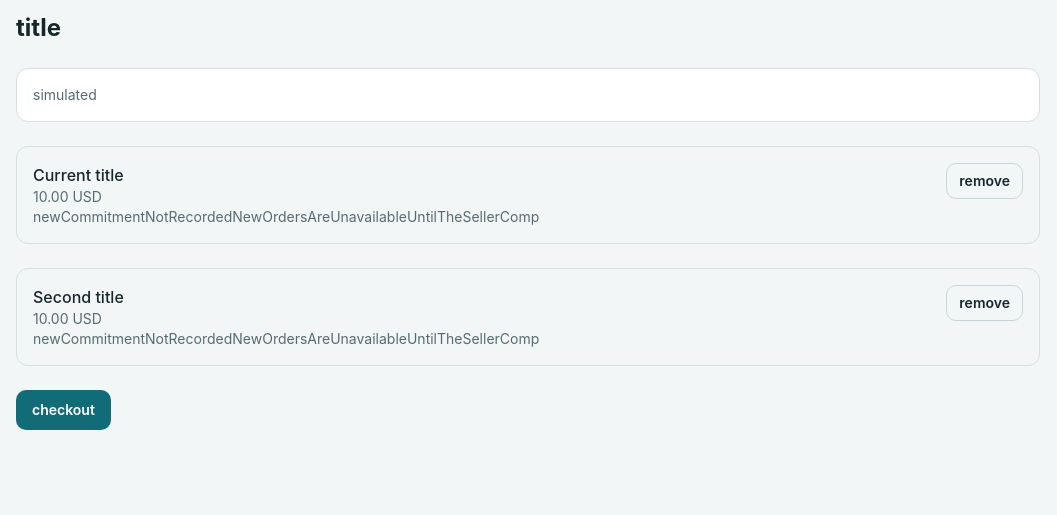
Scenario: rechecks listings before checkout and does not place an order after a later price change
Click the button "checkout".
click(63, 410)  # box x1=16 y1=390 x2=111 y2=430
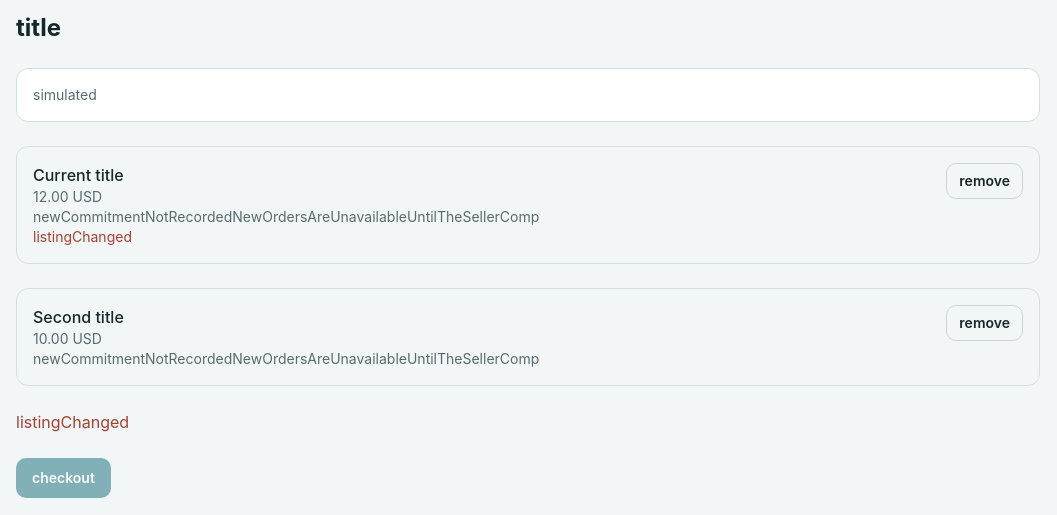
Check: the text "listingChanged" below "12.00" is shown, box x1=33 y1=228 x2=132 y2=245
Check: the button "checkout" is disabled, box x1=16 y1=458 x2=111 y2=498
